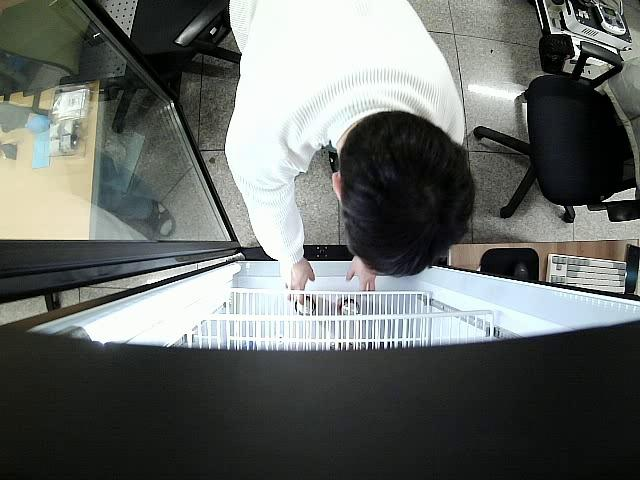00_hand: (280, 261, 315, 304), (347, 256, 377, 292)
